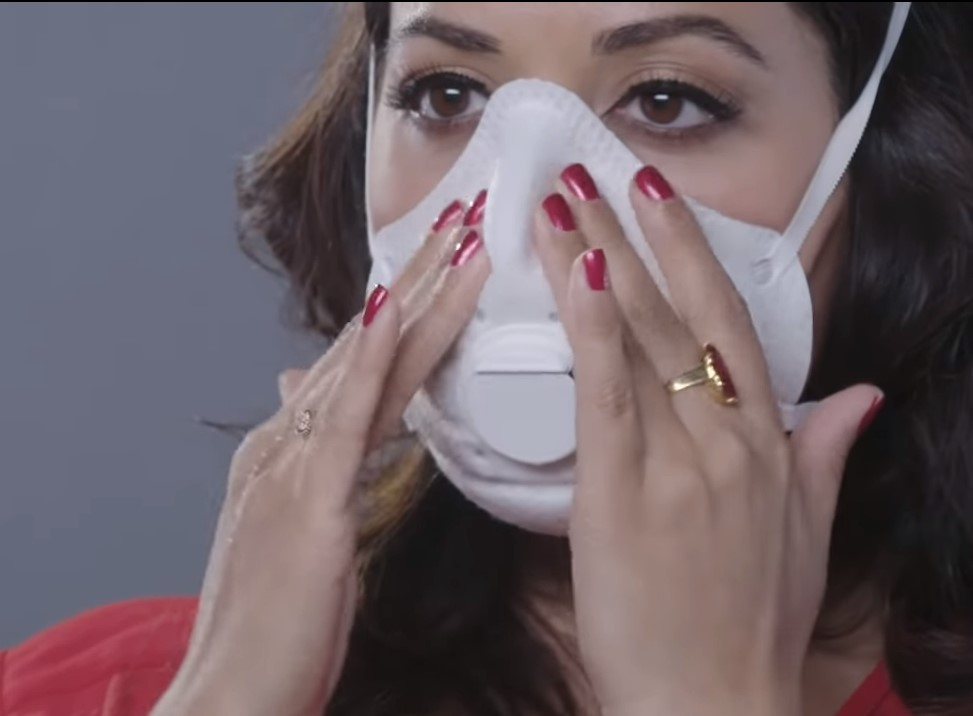face_with_mask: (334, 8, 901, 541)
